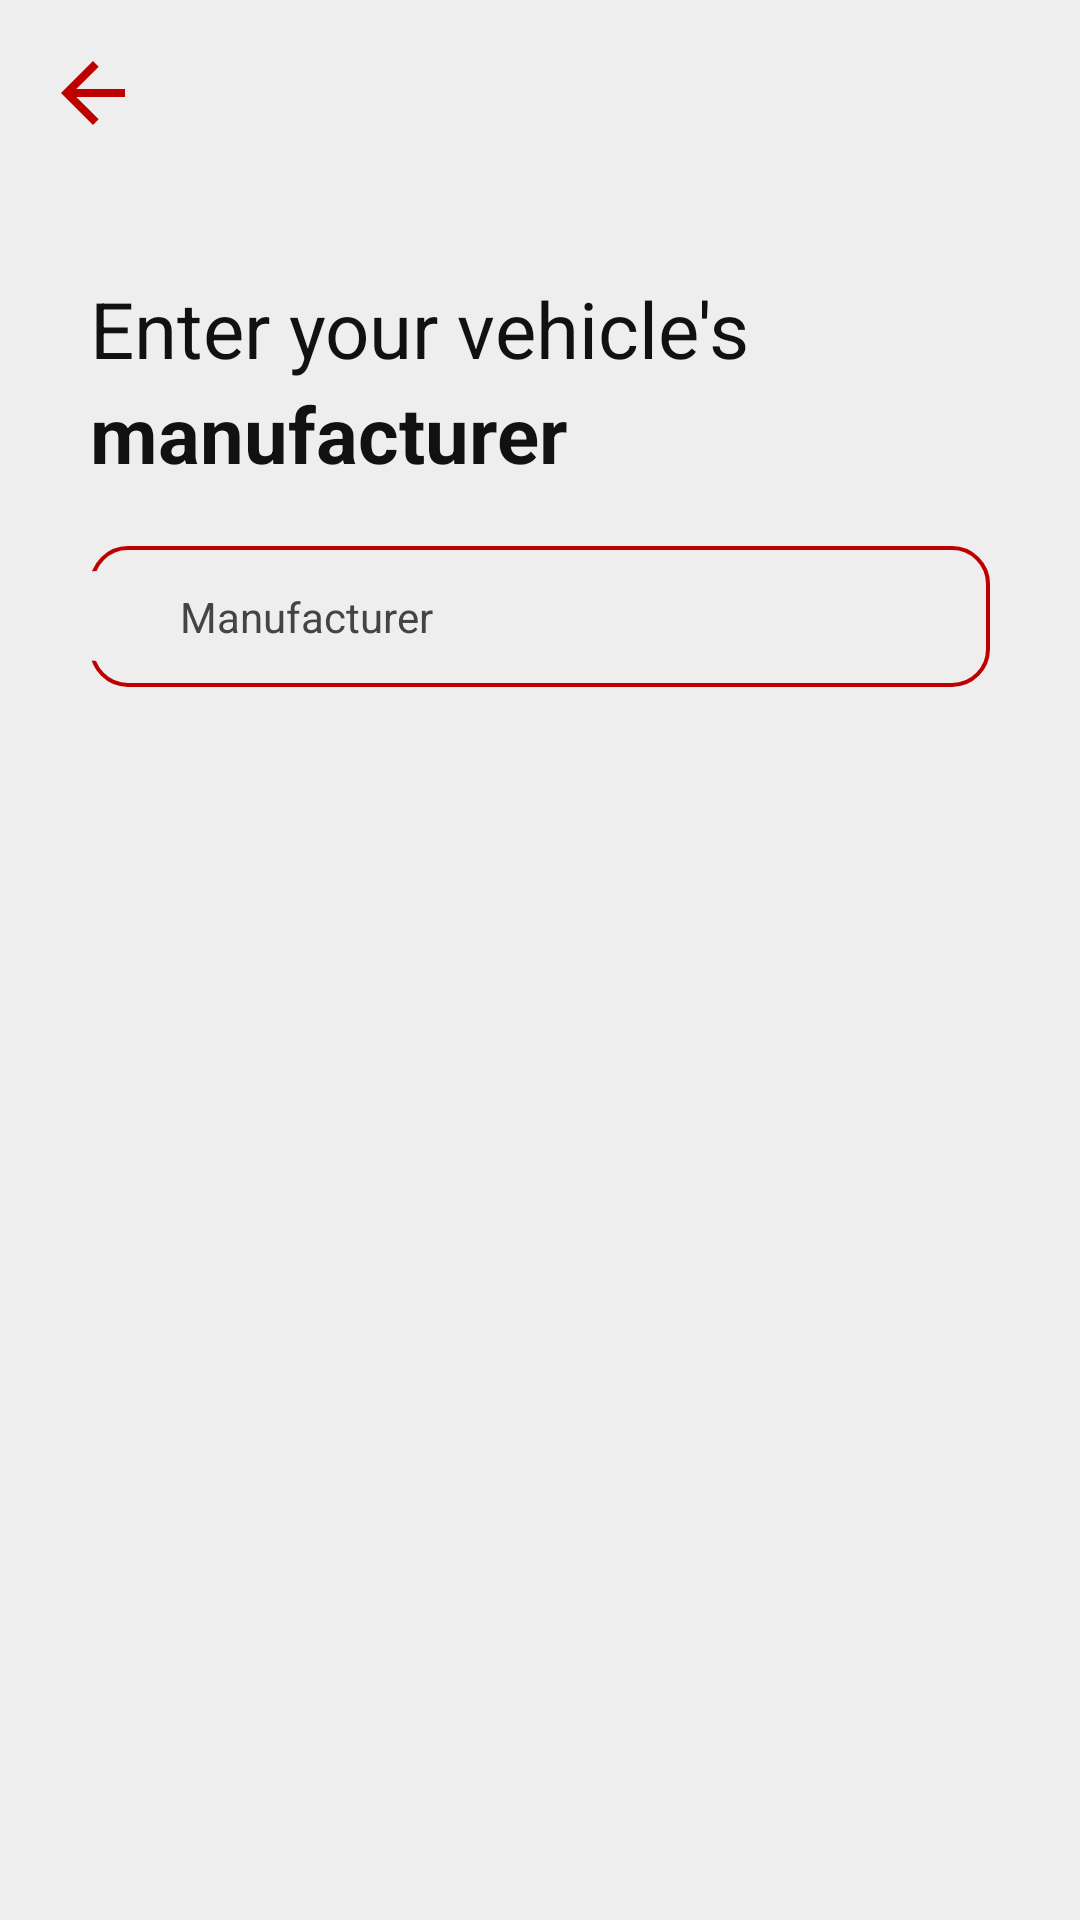

Where to tap for icons on this 1080 x 1920 app screen, as (x,y):
arrow back: (93,93)
